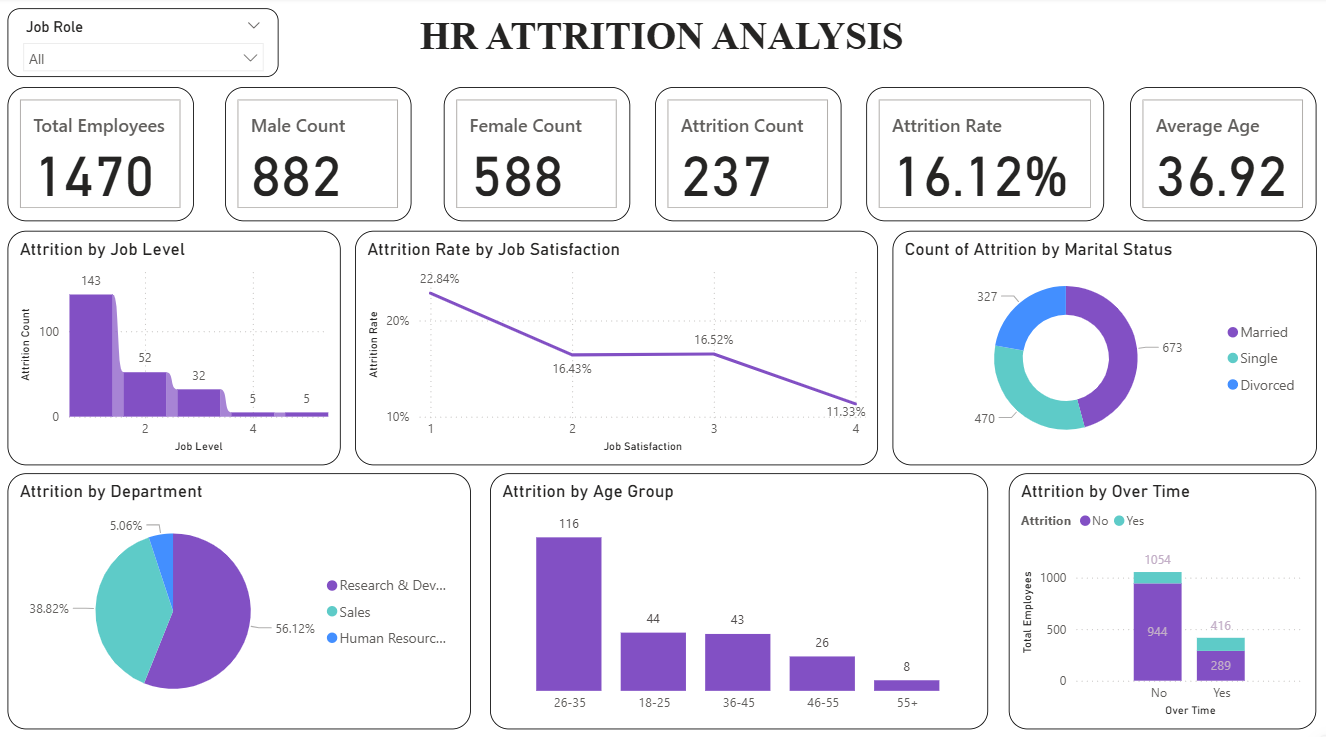

The dashboard page shown, as its layout file describes it:
{"tool":"powerbi","page":{"name":"Page 1","canvas":[1280,720],"ordinal":0},"visuals":[{"type":"textbox","box":[392.5,11,492.8,53.8],"z":0},{"type":"lineChart","fields":{"Category":["HR Employee Attrition.Job Satisfaction"],"Y":["HR Employee Attrition.Attrition Rate"]},"box":[342.4,225,505,226.2],"z":1000},{"type":"donutChart","fields":{"Category":["HR Employee Attrition.Marital Status"],"Y":["CountNonNull(HR Employee Attrition.Attrition)"]},"box":[860.9,225,409.6,226.2],"z":2000},{"type":"clusteredColumnChart","title":"Attrition by Age Group","fields":{"Category":["HR Employee Attrition.Age Group"],"Y":["HR Employee Attrition.Attrition Count"]},"box":[473.2,459.8,480.6,247],"z":3000},{"type":"pieChart","title":"Attrition by Department","fields":{"Category":["HR Employee Attrition.Department"],"Y":["HR Employee Attrition.Attrition Count"]},"box":[7.3,459.8,447.6,247],"z":4000},{"type":"cardVisual","fields":{"Data":["HR Employee Attrition.Total Employees"]},"box":[7.3,86.8,179.8,129.6],"z":5000},{"type":"cardVisual","fields":{"Data":["HR Employee Attrition.Attrition Rate"]},"box":[836.4,86.8,229.9,129.6],"z":6000},{"type":"cardVisual","fields":{"Data":["HR Employee Attrition.Attrition Count"]},"box":[632.2,86.8,179.8,129.6],"z":7000},{"type":"cardVisual","fields":{"Data":["HR Employee Attrition.Average Age"]},"box":[1090.8,86.8,179.8,129.6],"z":8000},{"type":"slicer","fields":{"Values":["HR Employee Attrition.Job Role"]},"box":[7.3,11,261.7,66],"z":9000},{"type":"columnChart","title":"Attrition by Over Time","fields":{"Category":["HR Employee Attrition.Over Time"],"Y":["HR Employee Attrition.Total Employees"],"Series":["HR Employee Attrition.Attrition"]},"box":[973.4,459.8,297.1,247],"z":10000},{"type":"columnChart","title":"Attrition by Job Level","fields":{"Category":["HR Employee Attrition.Job Level"],"Y":["HR Employee Attrition.Attrition Count"]},"box":[7.3,225,321.6,226.2],"z":11000},{"type":"cardVisual","fields":{"Data":["HR Employee Attrition.Count of Females"]},"box":[428,86.8,179.8,129.6],"z":12000},{"type":"cardVisual","fields":{"Data":["HR Employee Attrition.Count of Males"]},"box":[217.7,86.8,179.8,129.6],"z":13000}]}

Visuals, with their boxes in screenshot pixels (x1, y1, x2, y2), scaled from the page's 1280x720 canvas onto the 1326x737 screenshot:
textbox: box=[407, 11, 917, 66]
lineChart - HR Employee Attrition.Job Satisfaction x HR Employee Attrition.Attrition Rate: box=[355, 230, 878, 462]
donutChart - HR Employee Attrition.Marital Status x CountNonNull(HR Employee Attrition.Attrition): box=[892, 230, 1316, 462]
"Attrition by Age Group" clusteredColumnChart: box=[490, 471, 988, 723]
"Attrition by Department" pieChart: box=[8, 471, 471, 723]
cardVisual - HR Employee Attrition.Total Employees: box=[8, 89, 194, 222]
cardVisual - HR Employee Attrition.Attrition Rate: box=[866, 89, 1105, 222]
cardVisual - HR Employee Attrition.Attrition Count: box=[655, 89, 841, 222]
cardVisual - HR Employee Attrition.Average Age: box=[1130, 89, 1316, 222]
slicer - HR Employee Attrition.Job Role: box=[8, 11, 279, 79]
"Attrition by Over Time" columnChart: box=[1008, 471, 1316, 723]
"Attrition by Job Level" columnChart: box=[8, 230, 341, 462]
cardVisual - HR Employee Attrition.Count of Females: box=[443, 89, 630, 222]
cardVisual - HR Employee Attrition.Count of Males: box=[226, 89, 412, 222]
